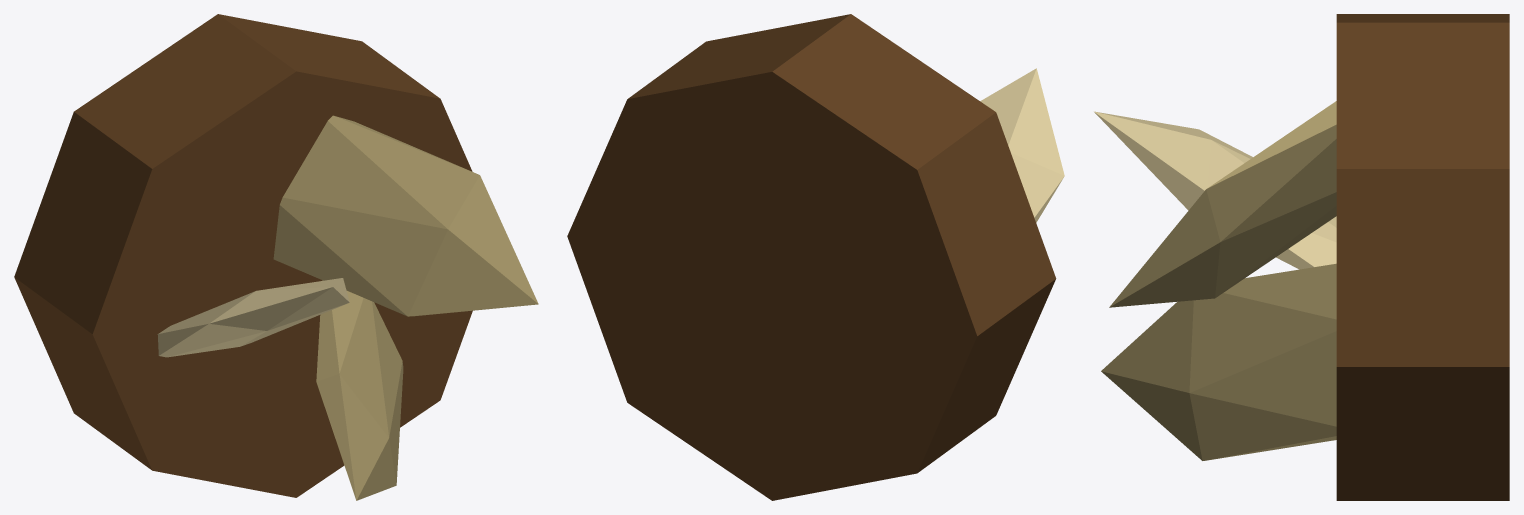
The model's file is 1_seedling.obj.
3 views of the same model, side by side, from view 1: azimuth 30°, elevation 25°; view 2: azimuth 150°, elevation 25°; view 3: azimuth 270°, elevation 25° (orthographic). The views are drawn at different scales.
Visible parts, largest first — view 1: avantoe_1_seedling; view 2: avantoe_1_seedling; view 3: avantoe_1_seedling.
Boxes of the visible parts, x1,y1,x2,y2 form: avantoe_1_seedling: (14,14,538,500); avantoe_1_seedling: (567,14,1064,500); avantoe_1_seedling: (1094,14,1509,500).
Size of the model in its own units: 0.12 by 0.12 by 0.0963.
